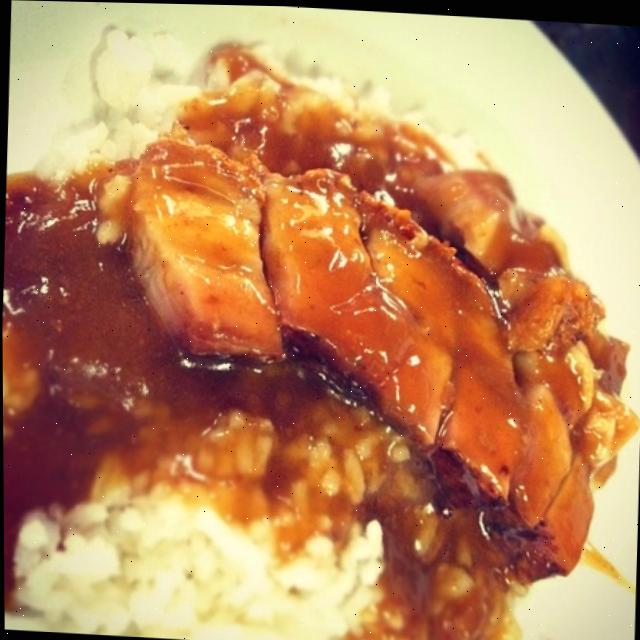猪肉菜式: (17, 3, 640, 640)
